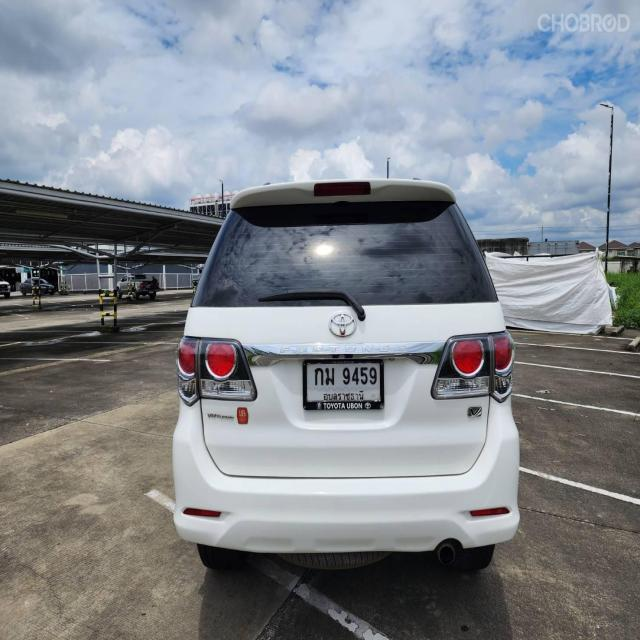license_plate: (303, 357, 384, 412)
